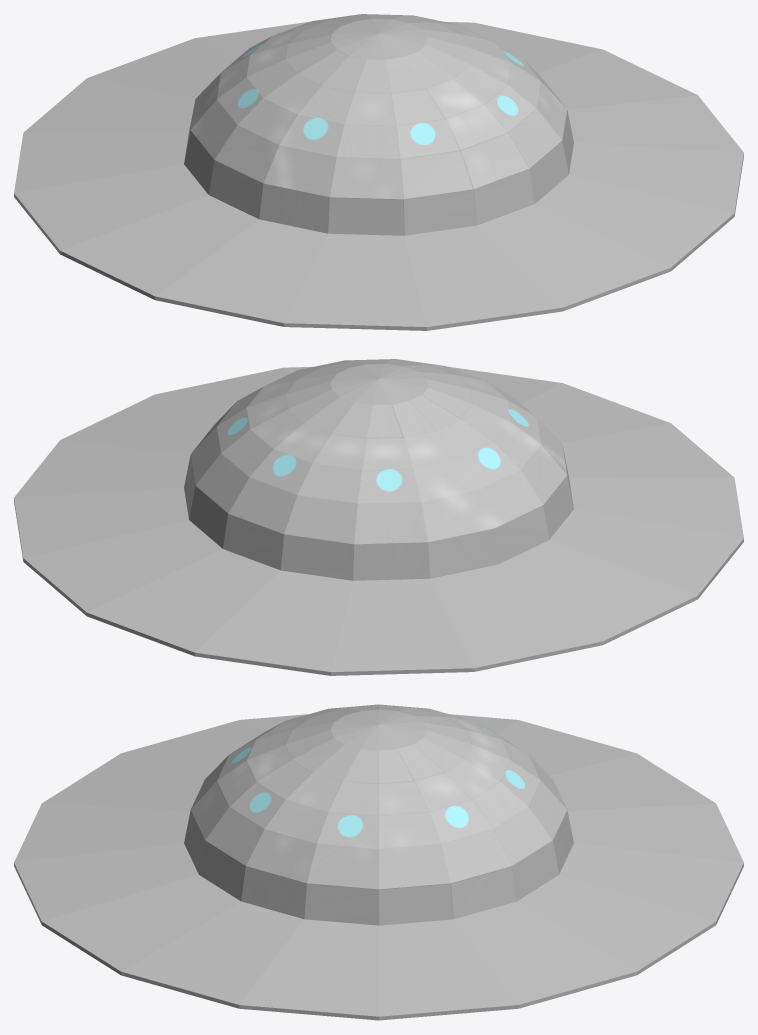
Rendered from UFO.fbx.
The picture shows the model from 3 angles, top to bottom: view 1: azimuth 30°, elevation 25°; view 2: azimuth 150°, elevation 25°; view 3: azimuth 270°, elevation 25°; orthographic projection.
Parts seen in each view (by area): view 1: Torus; view 2: Torus; view 3: Torus.
Part boxes in pixels (x1,y1,x2,y2): Torus: (14,14,743,330); Torus: (14,359,743,675); Torus: (14,704,743,1020).
Size of the model in its own units: 374 by 131 by 374.
Materials: 1 (1 with a texture image).
